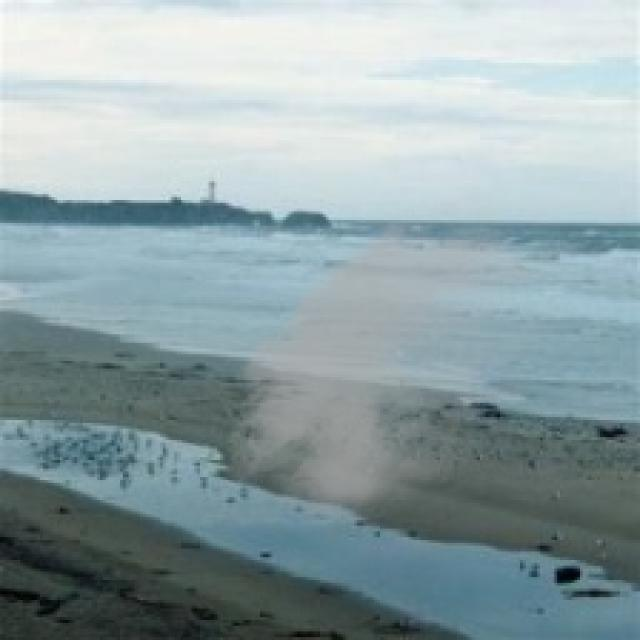Smoke: (214, 180, 583, 546)
